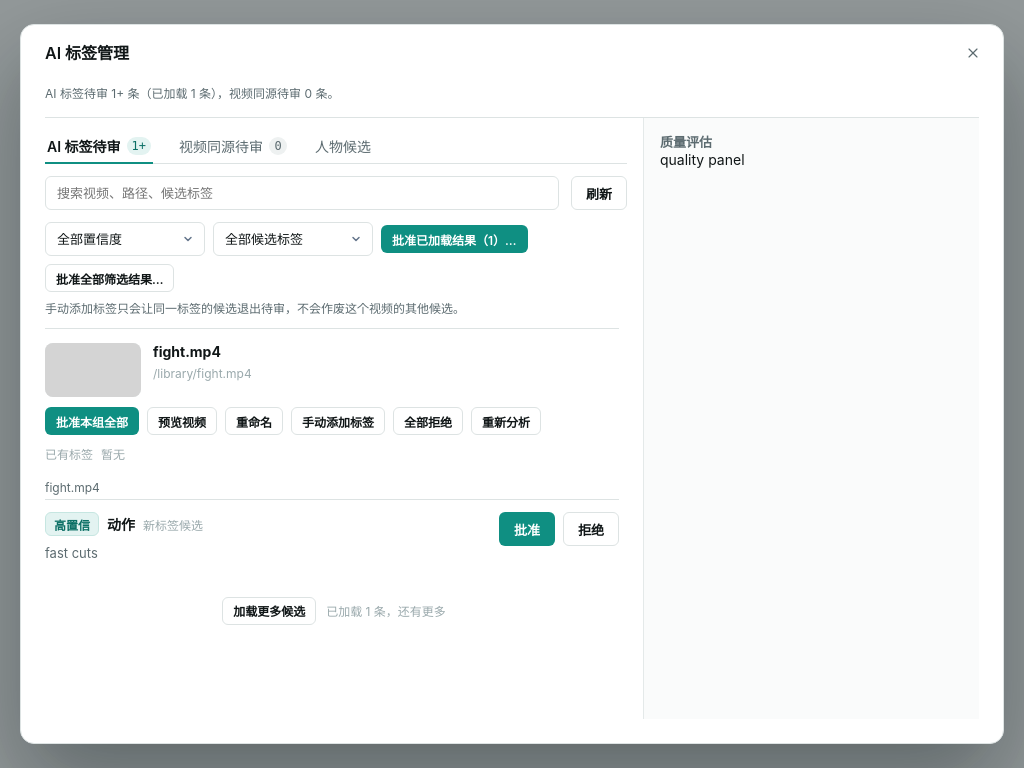
Test case: AITagReviewDialog pagination › loads the first page and appends the next one on demand
The width and height of the screenshot is (1024, 768).
Expected: the number of elements with class "ai-video-group" is 1, [45,328,619,476]
Click the button with test id "ai-candidate-load-more": (269, 611) [222,597,316,625]
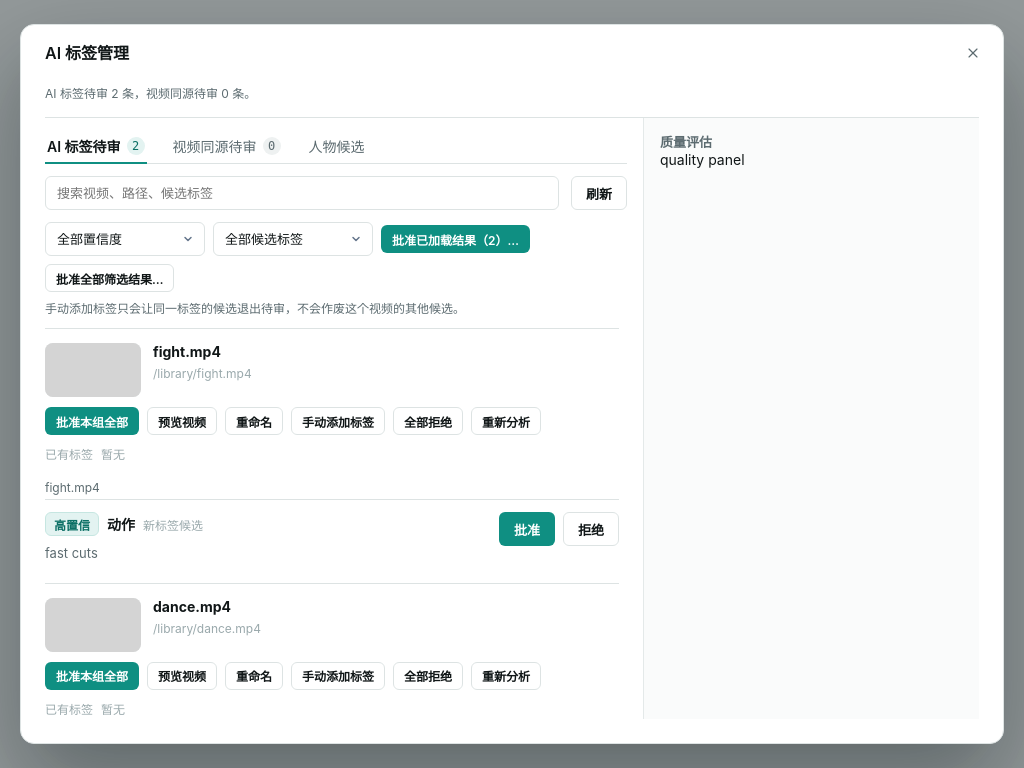
Expected: the number of elements with class "ai-video-group" is 2, [45,328,619,476]; [45,583,619,719]
Expected: the text "dance.mp4" is shown, [153,598,231,617]
